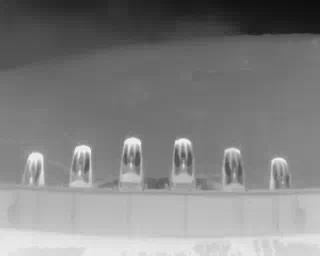claw: (120, 135, 145, 189), (69, 143, 94, 188), (172, 135, 193, 188), (19, 151, 45, 188), (223, 145, 244, 187), (270, 156, 291, 189)
